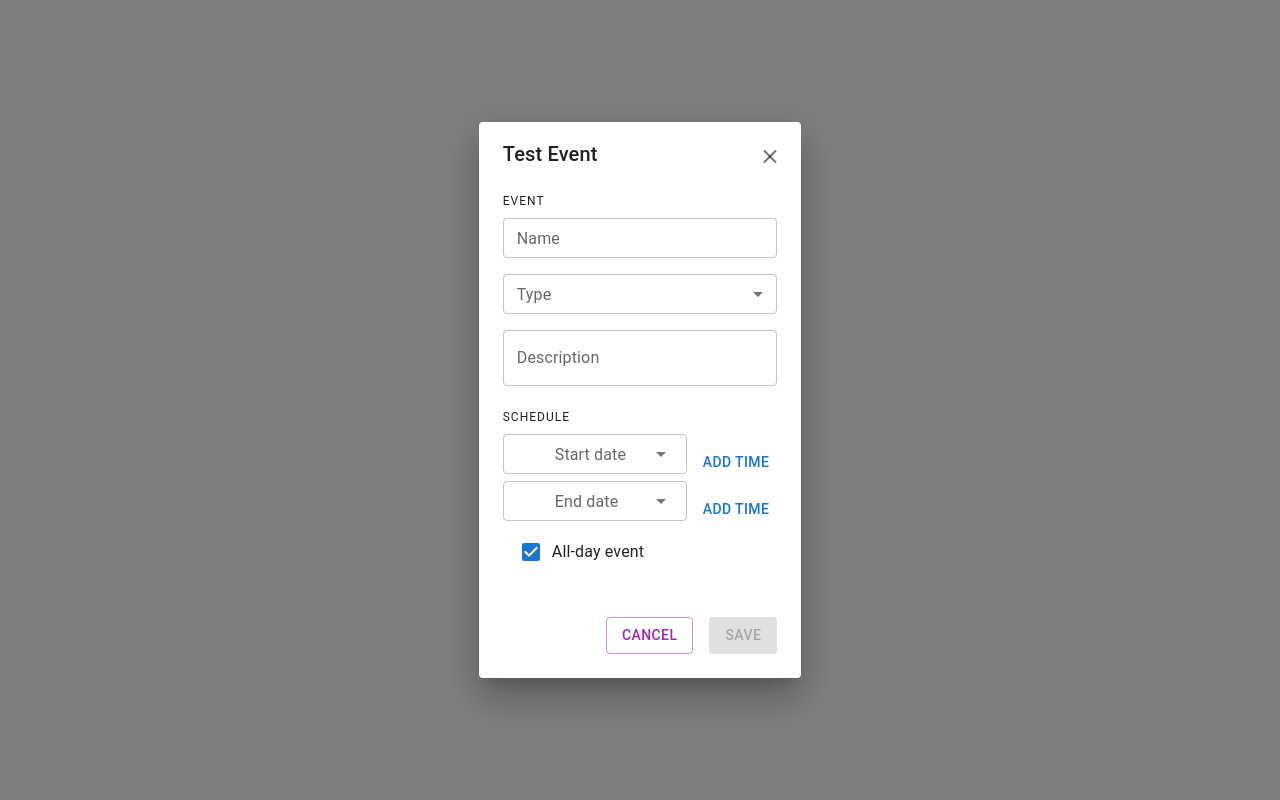
Test case: EventFormModal › should allow resetting the form
Fill in the form fields with valid input
Type "Event Name" into the field with placeholder "Name". click: (640, 238)
box: [503, 218, 777, 258]
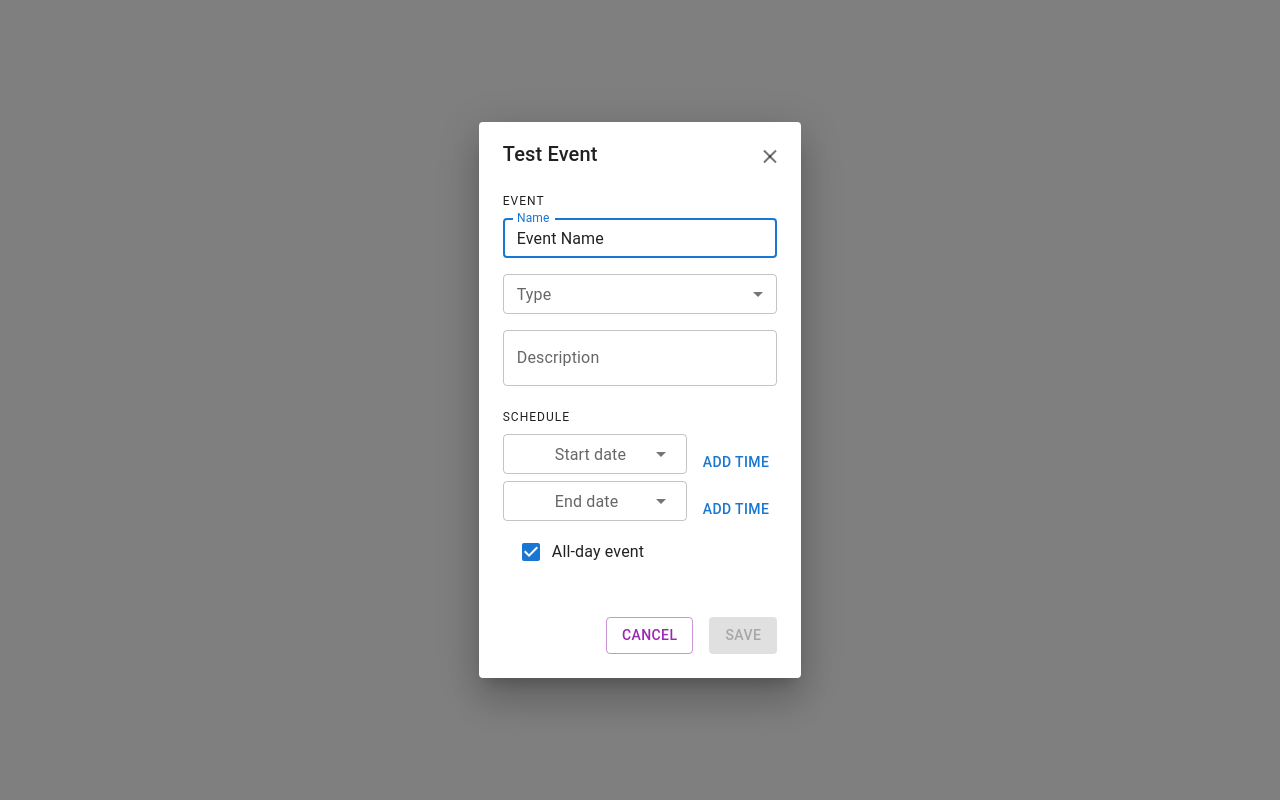
Click the "Reset" button
Click the button "Cancel". click: (650, 635)
box: [606, 617, 694, 654]
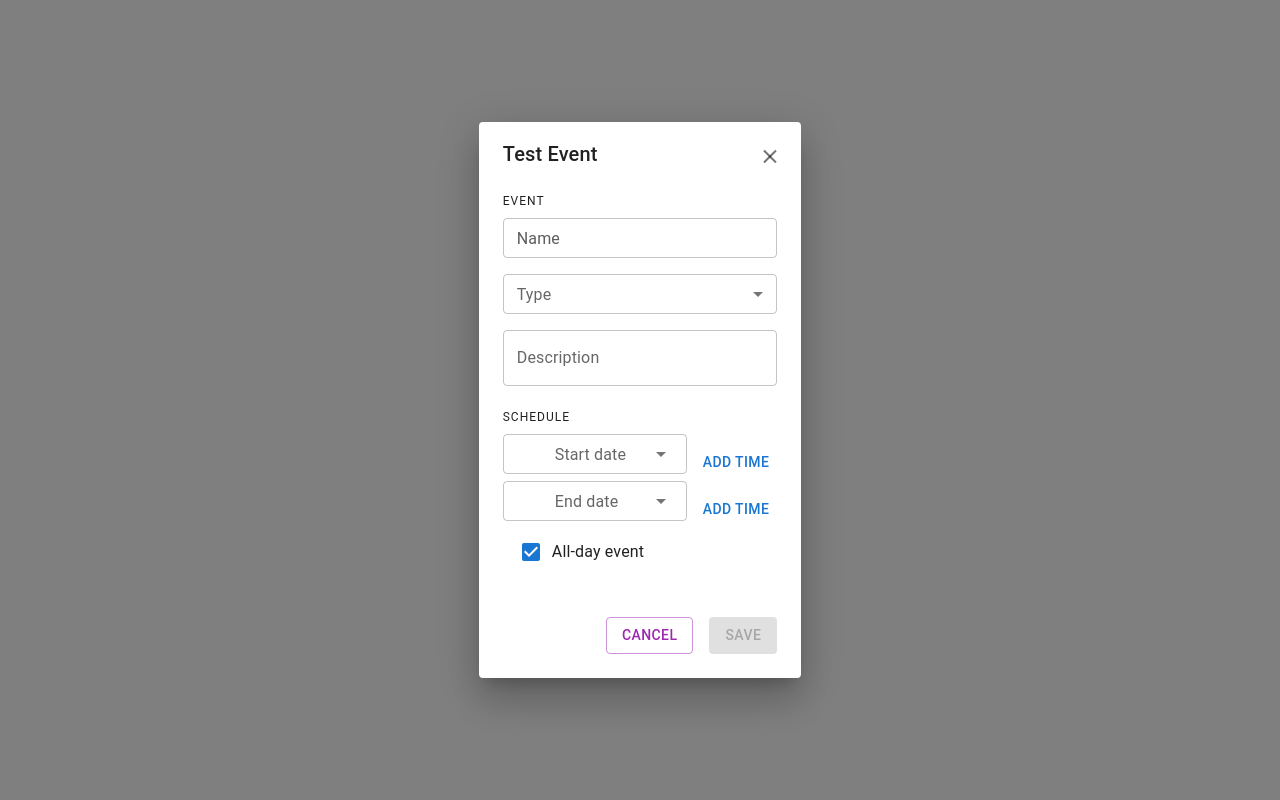
Result: the field with placeholder "Name" is empty at [503, 218, 777, 258]
